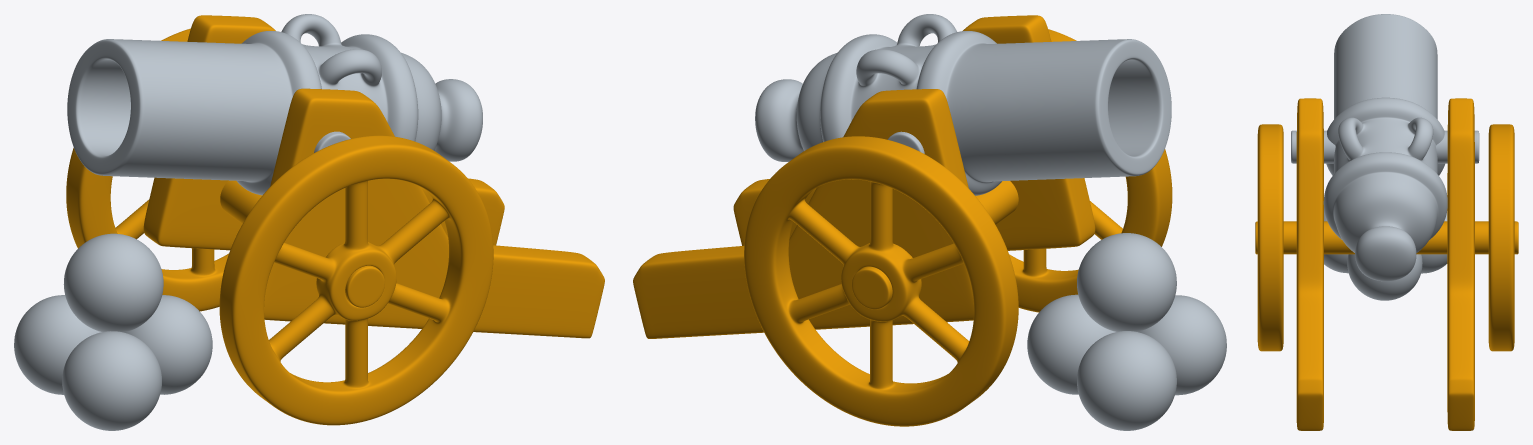
The model's file is toy_cannon.glb.
The picture shows the model from 3 angles, left to right: view 1: azimuth 30°, elevation 25°; view 2: azimuth 150°, elevation 25°; view 3: azimuth 270°, elevation 25°; orthographic projection. The views are drawn at different scales.
Visible parts, largest first — view 1: wheel_L, trunk, Line02, Line03, Sphere03, Sphere04, wheel_R, Sphere02, Sphere01, Cylinder02; view 2: wheel_R, trunk, Line03, Line02, Sphere01, Sphere04, wheel_L, Sphere03, Sphere02, Cylinder02; view 3: trunk, Line03, Line02, wheel_R, wheel_L, Cylinder02, Sphere02, Cylinder004_trunk_0, Cylinder005_trunk_0, Sphere01, Sphere03.
Part boxes in pixels (left/top/right/bottom): wheel_L: left=219, top=135, right=493, bottom=425; trunk: left=67, top=14, right=482, bottom=195; Line02: left=264, top=88, right=604, bottom=338; Line03: left=143, top=15, right=504, bottom=250; Sphere03: left=62, top=331, right=161, bottom=430; Sphere04: left=63, top=233, right=163, bottom=332; wheel_R: left=66, top=28, right=228, bottom=311; Sphere02: left=124, top=295, right=212, bottom=394; Sphere01: left=14, top=295, right=101, bottom=394; Cylinder02: left=220, top=180, right=384, bottom=307; wheel_R: left=744, top=136, right=1018, bottom=426; trunk: left=755, top=14, right=1171, bottom=195; Line03: left=633, top=89, right=973, bottom=338; Line02: left=733, top=15, right=1095, bottom=250; Sphere01: left=1077, top=331, right=1176, bottom=430; Sphere04: left=1077, top=233, right=1176, bottom=331; wheel_L: left=1009, top=29, right=1172, bottom=312; Sphere03: left=1138, top=295, right=1226, bottom=395; Sphere02: left=1027, top=294, right=1115, bottom=394; Cylinder02: left=852, top=181, right=1018, bottom=309; trunk: left=1323, top=14, right=1447, bottom=281; Line03: left=1447, top=98, right=1474, bottom=430; Line02: left=1296, top=98, right=1323, bottom=430; wheel_R: left=1488, top=124, right=1514, bottom=351; wheel_L: left=1257, top=124, right=1283, bottom=351; Cylinder02: left=1255, top=221, right=1518, bottom=254; Sphere02: left=1347, top=254, right=1422, bottom=300; Cylinder004_trunk_0: left=1291, top=130, right=1335, bottom=163; Cylinder005_trunk_0: left=1436, top=130, right=1479, bottom=163; Sphere01: left=1421, top=211, right=1447, bottom=273; Sphere03: left=1324, top=209, right=1348, bottom=273.
Bounding box in the file's own units: 1.41 × 0.9519 × 0.8476.
